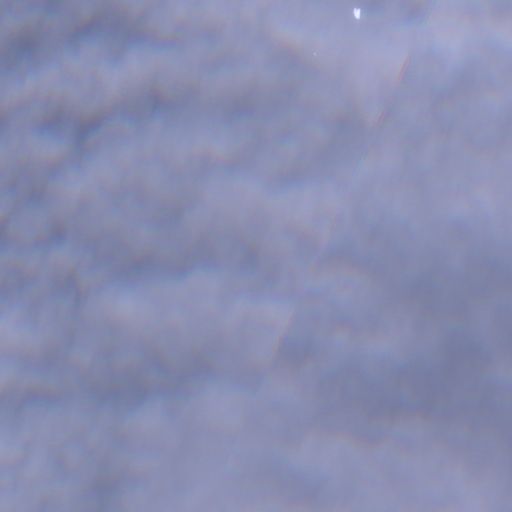Iceberg: (354, 8, 360, 19), (314, 53, 315, 54)
